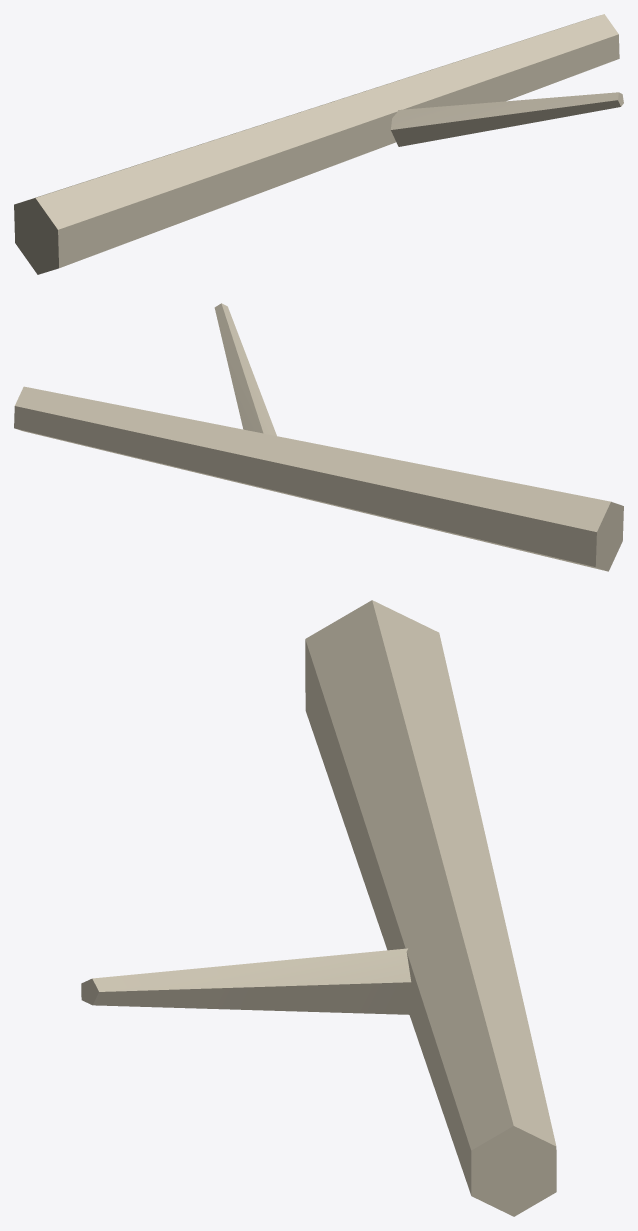
File: Driftwood.fbx
3 renders of one model, top to bottom at view 1: azimuth 30°, elevation 25°; view 2: azimuth 150°, elevation 25°; view 3: azimuth 270°, elevation 25°, orthographic. The views are drawn at different scales.
Parts seen in each view (by area): view 1: Driftwood; view 2: Driftwood; view 3: Driftwood.
Boxes of the visible parts, left/top/right/bottom form: Driftwood: left=14, top=14, right=623, bottom=274; Driftwood: left=14, top=303, right=623, bottom=571; Driftwood: left=81, top=600, right=556, bottom=1216.
Bounding box in the file's own units: 1.82 × 0.3292 × 0.6718.
